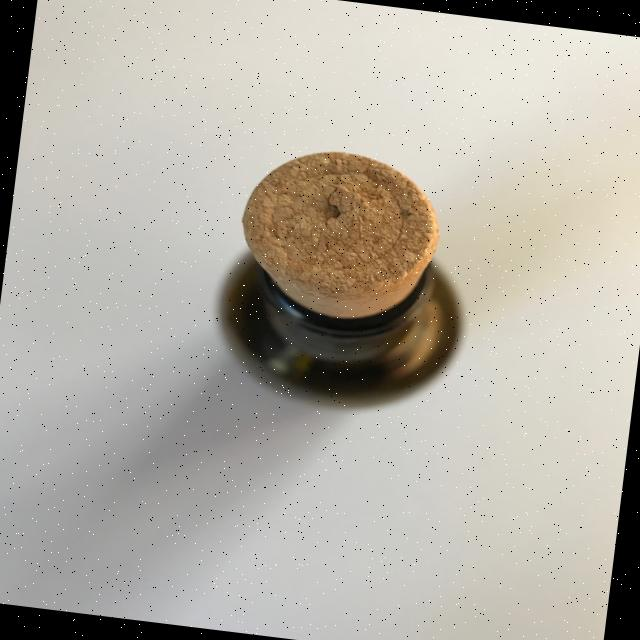glass: (208, 138, 482, 418)
